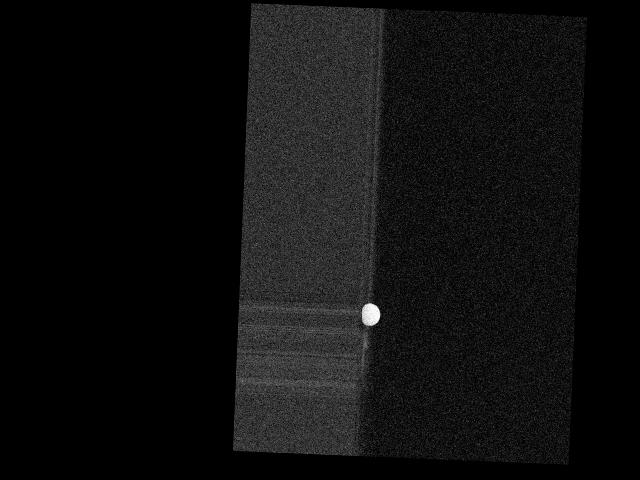egg: (361, 303, 380, 326)
